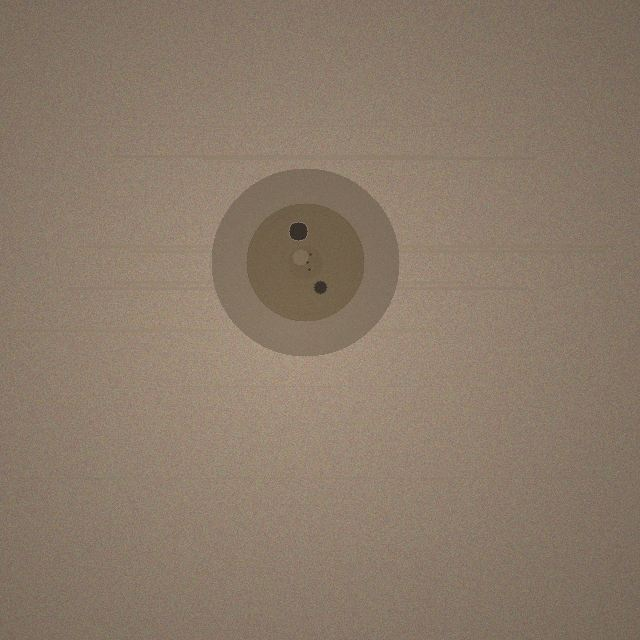shrinkage: (211, 168, 399, 356)
